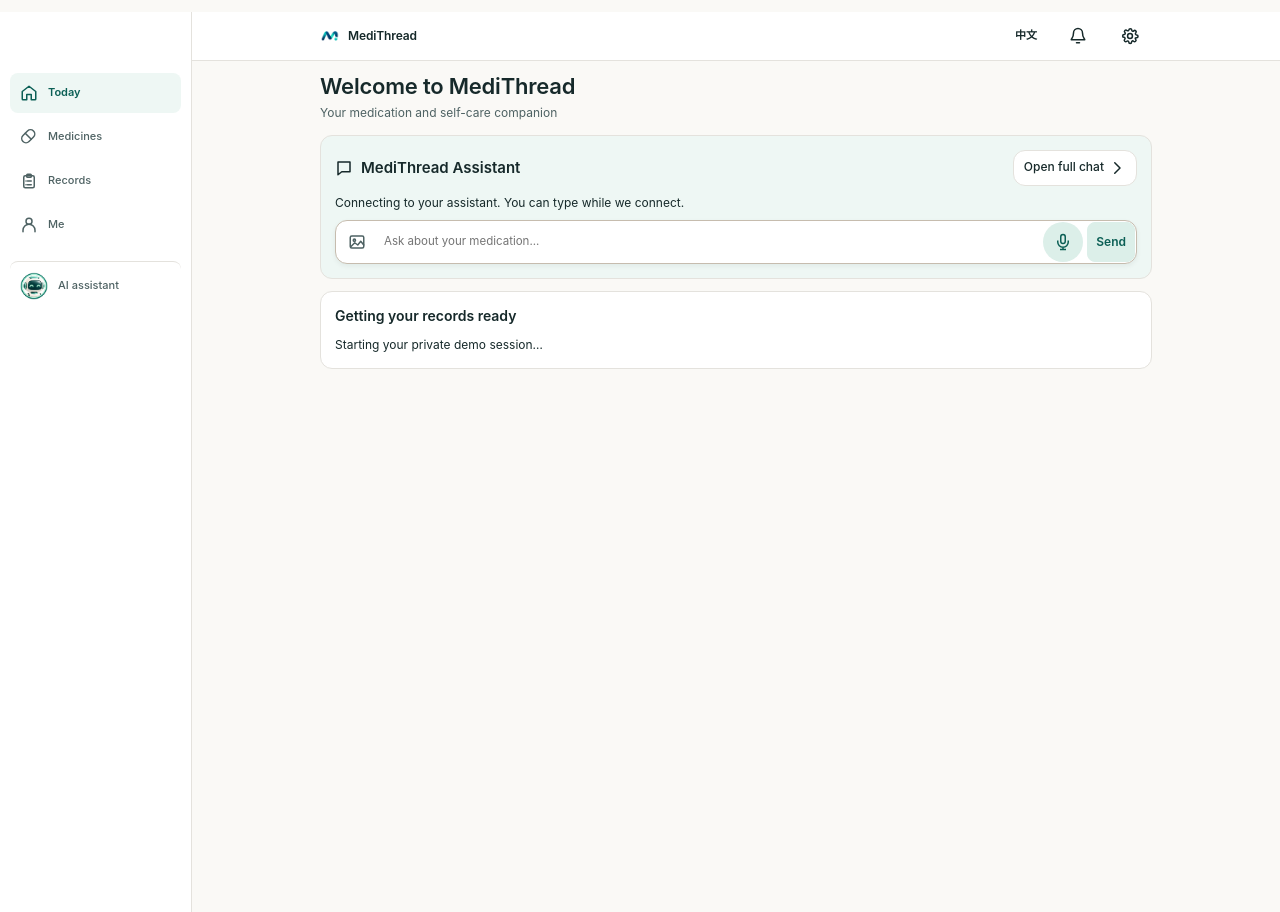
Scenario: refuses a session from another owner while retaining the local draft
In the field: (710, 242) [381,222,1039,262], type "DEMO local only"
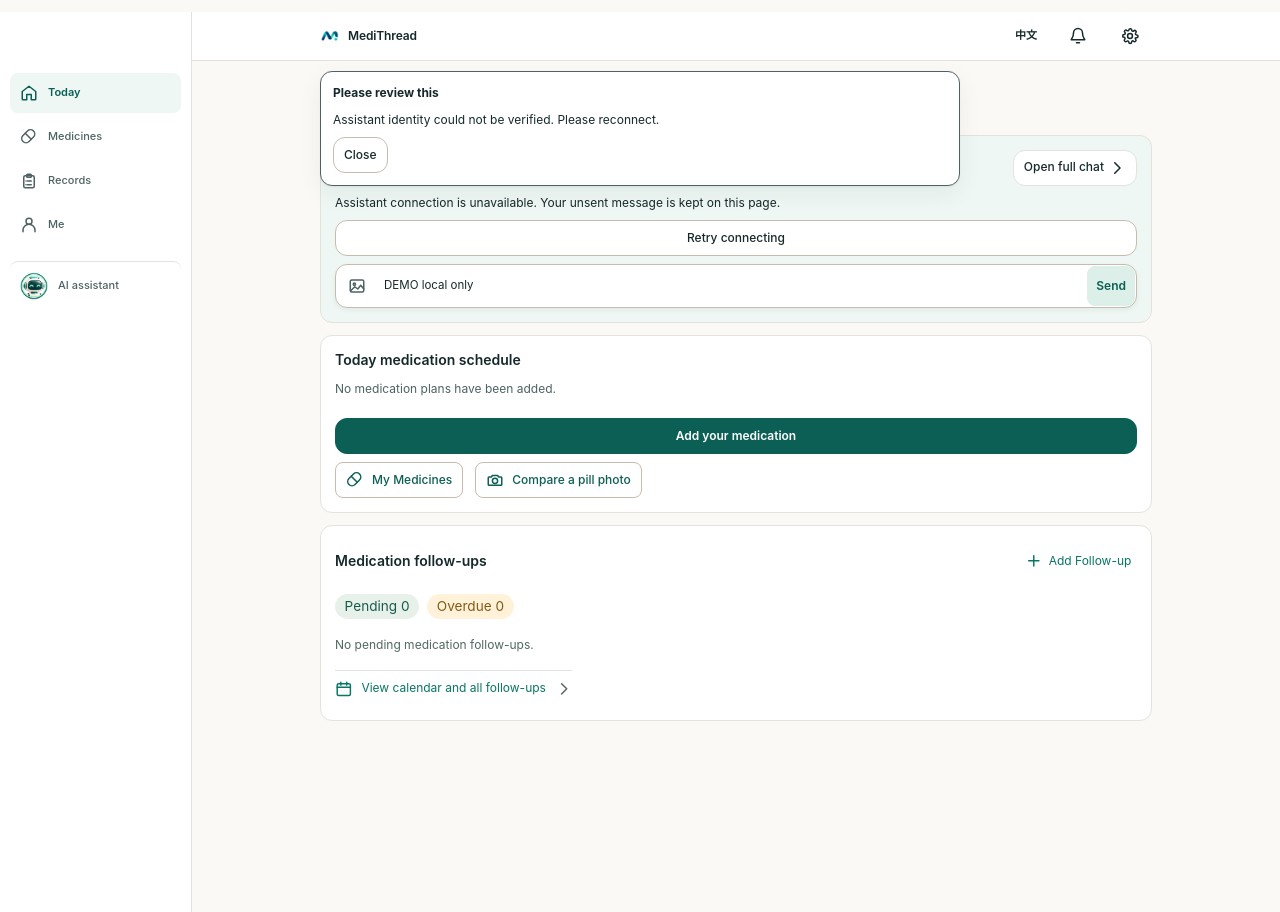
expect the button "Send" is disabled: met, box [1087,266,1135,306]
expect the button "Retry connecting" is shown: met, box [335,220,1137,256]
